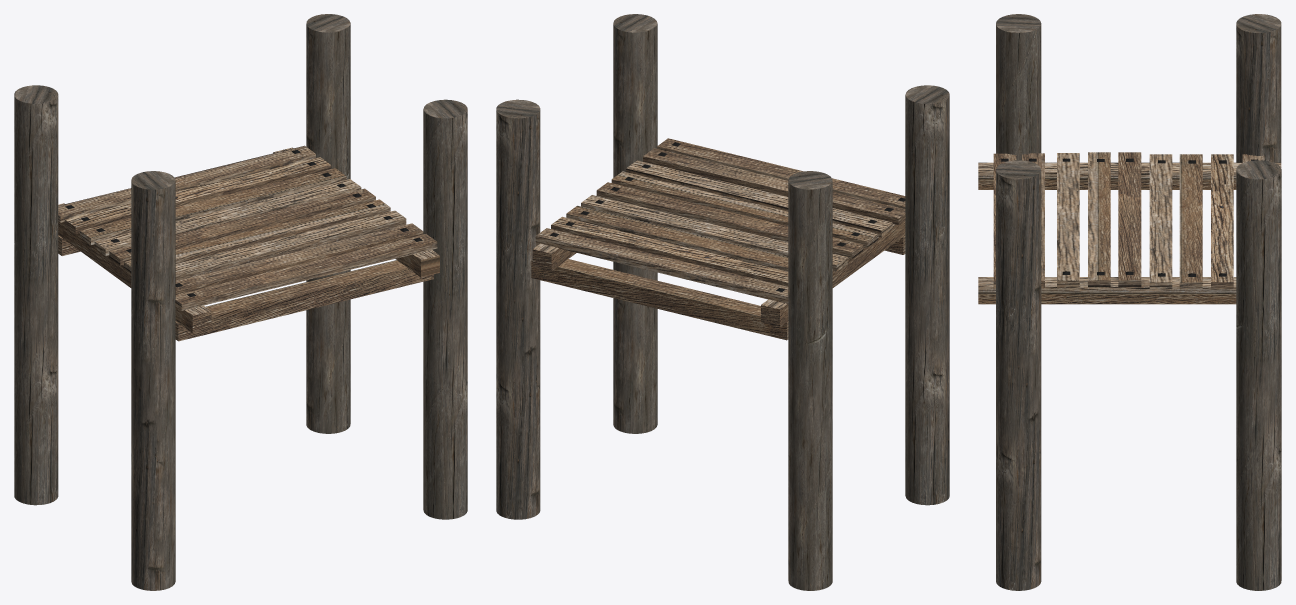
The model's file is kitPlataformaMadera.fbx.
3 renders of one model, left to right at view 1: azimuth 30°, elevation 25°; view 2: azimuth 150°, elevation 25°; view 3: azimuth 270°, elevation 25°, orthographic. The views are drawn at different scales.
Visible parts, largest first — view 1: Cube, Columna 6x0.004, Columna 6x0.002, Columna 6x0.3, Columna 6x0.001, viga 4x0.3; view 2: Cube, Columna 6x0.002, Columna 6x0.004, Columna 6x0.001, Columna 6x0.3, viga 4x0.001; view 3: Cube, Columna 6x0.001, Columna 6x0.3, Columna 6x0.004, Columna 6x0.002.
Part boxes in pixels (left/top/right/bottom): Cube: left=58, top=145, right=439, bottom=333; Columna 6x0.004: left=14, top=85, right=58, bottom=505; Columna 6x0.002: left=131, top=171, right=175, bottom=590; Columna 6x0.3: left=423, top=99, right=467, bottom=519; Columna 6x0.001: left=306, top=14, right=350, bottom=433; viga 4x0.3: left=175, top=260, right=433, bottom=341; Cube: left=532, top=138, right=905, bottom=326; Columna 6x0.002: left=905, top=85, right=949, bottom=505; Columna 6x0.004: left=788, top=171, right=832, bottom=590; Columna 6x0.001: left=496, top=99, right=540, bottom=519; Columna 6x0.3: left=613, top=14, right=657, bottom=433; viga 4x0.001: left=531, top=259, right=788, bottom=340; Cube: left=978, top=152, right=1281, bottom=304; Columna 6x0.001: left=1236, top=160, right=1281, bottom=590; Columna 6x0.3: left=996, top=160, right=1041, bottom=590; Columna 6x0.004: left=1236, top=14, right=1281, bottom=162; Columna 6x0.002: left=996, top=14, right=1041, bottom=160.
Bounding box in the file's own units: 517 × 600 × 400.
3 materials, 2 textured.
